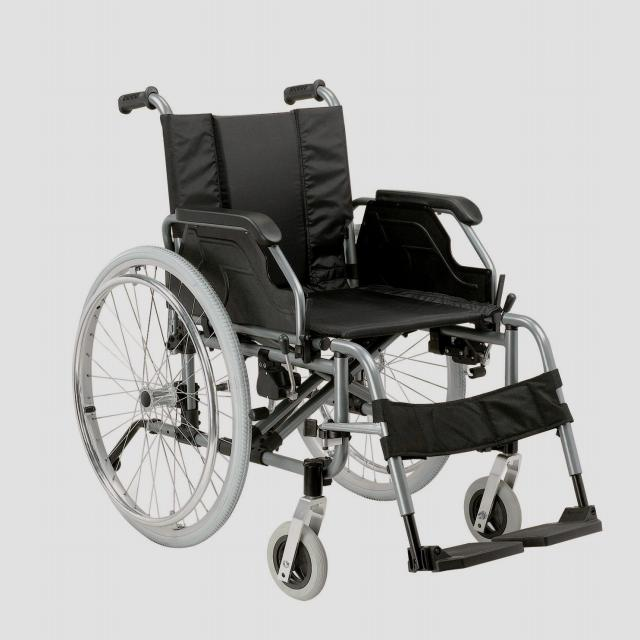wheelchair: (61, 47, 624, 615)
